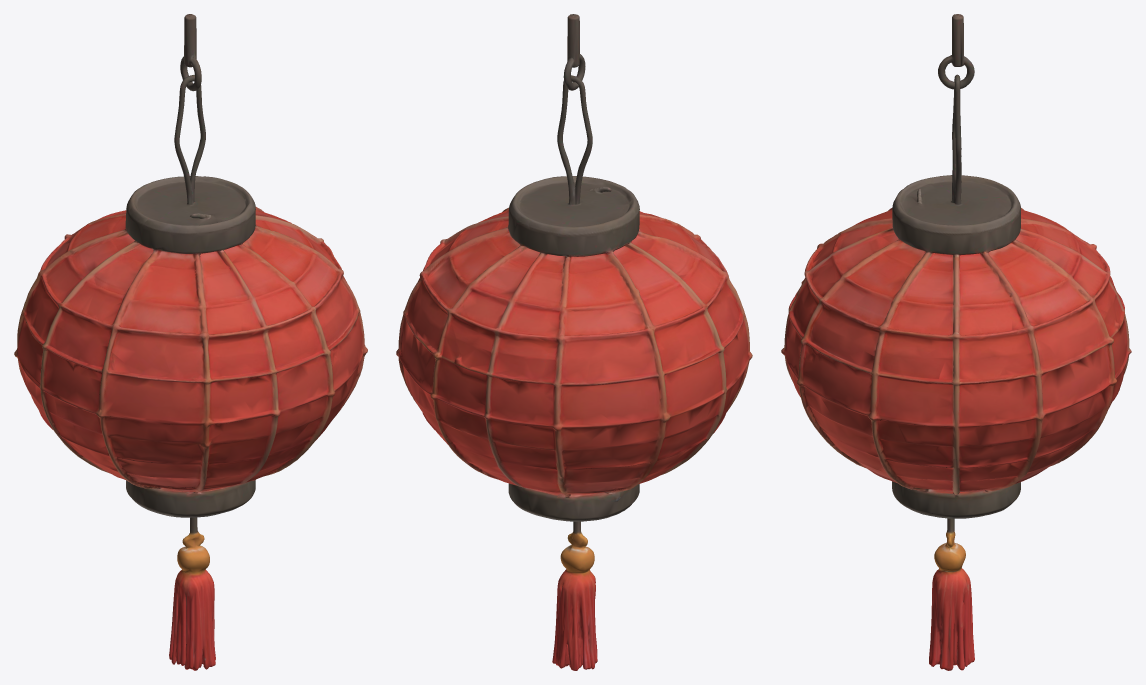
File: prop-lantern-paper.glb
The picture shows the model from 3 angles, left to right: view 1: azimuth 30°, elevation 25°; view 2: azimuth 150°, elevation 25°; view 3: azimuth 270°, elevation 25°; orthographic projection.
Parts seen in each view (by area): view 1: tripo_node_fbec2ef6-8c12-42f3-981f-ddcdaf5ee62e; view 2: tripo_node_fbec2ef6-8c12-42f3-981f-ddcdaf5ee62e; view 3: tripo_node_fbec2ef6-8c12-42f3-981f-ddcdaf5ee62e.
Boxes of the visible parts, x1=… form: tripo_node_fbec2ef6-8c12-42f3-981f-ddcdaf5ee62e: x1=14, y1=14, x2=367, y2=670; tripo_node_fbec2ef6-8c12-42f3-981f-ddcdaf5ee62e: x1=396, y1=14, x2=752, y2=670; tripo_node_fbec2ef6-8c12-42f3-981f-ddcdaf5ee62e: x1=781, y1=14, x2=1131, y2=670.
Bounding box in the file's own units: 0.2925 × 0.6 × 0.2944.
1 material, 1 textured.
